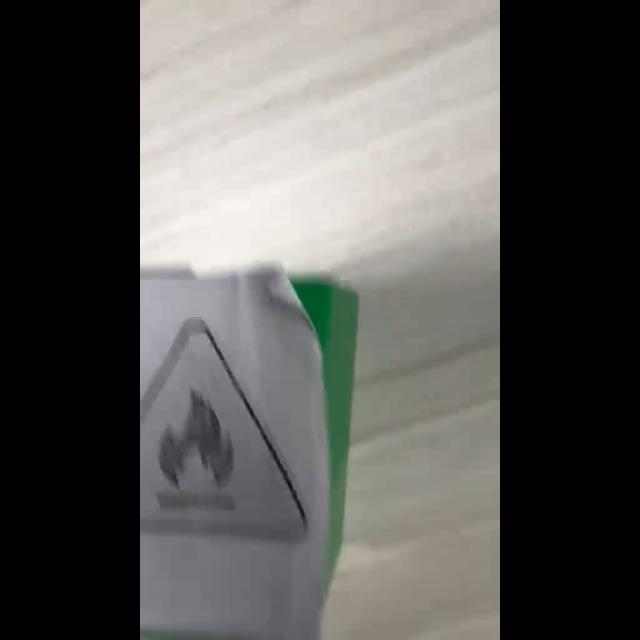Fire: (140, 317, 306, 539)
